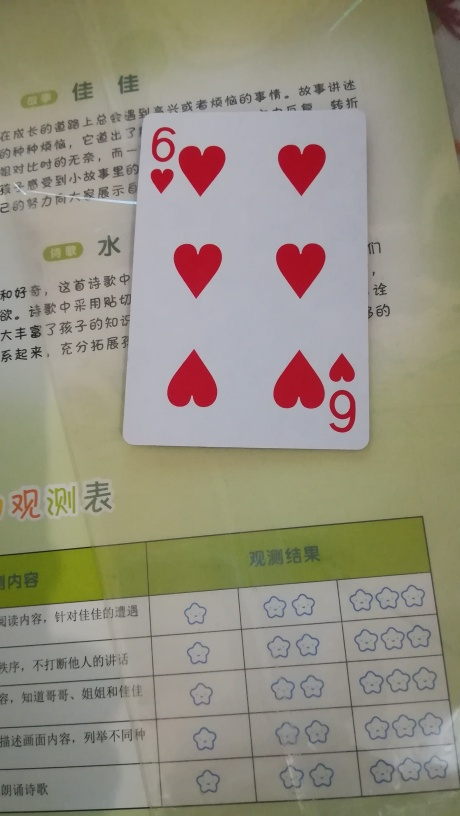hx 6: (117, 107, 377, 451)
